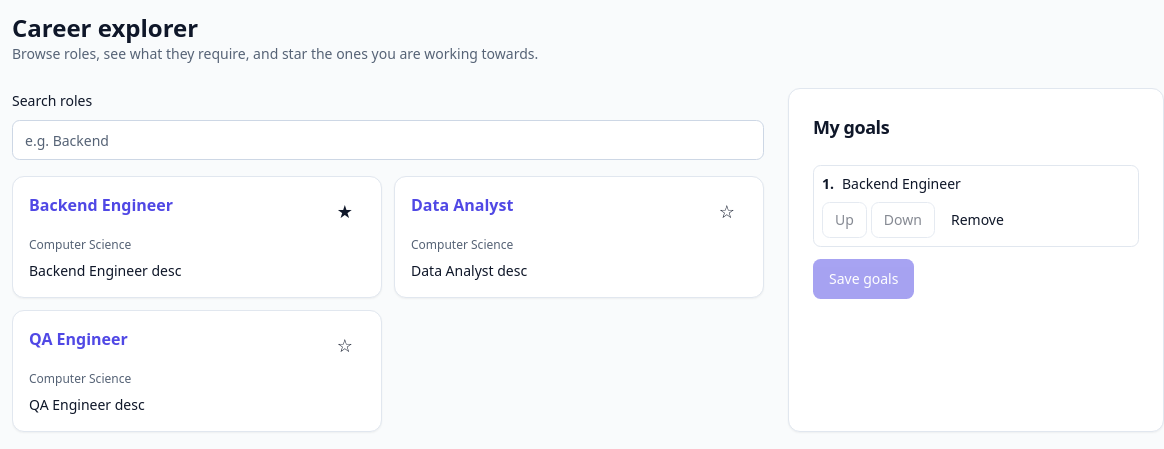
Test: CareersPage › lists roles with department and filters by search
The width and height of the screenshot is (1164, 449).
Check: the text "Computer Science" is shown 3 times, box [29, 236, 131, 253]; [411, 236, 513, 253]; [29, 370, 131, 387]
Type "qa" into the field labelled "Search roles". click: (388, 140)
box: [12, 120, 764, 160]
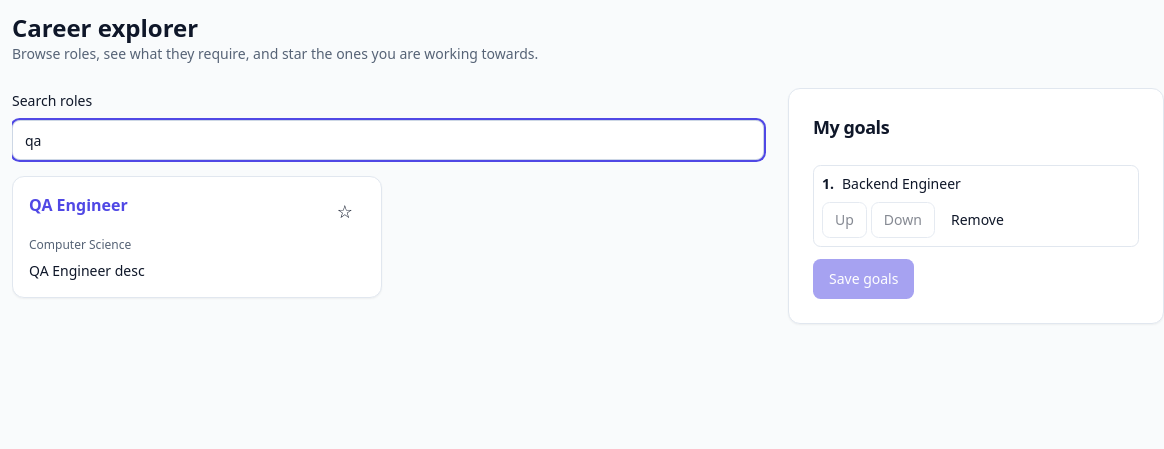
Check: the link "QA Engineer" is shown, box [29, 193, 128, 217]
Check: the link "Data Analyst" is gone
